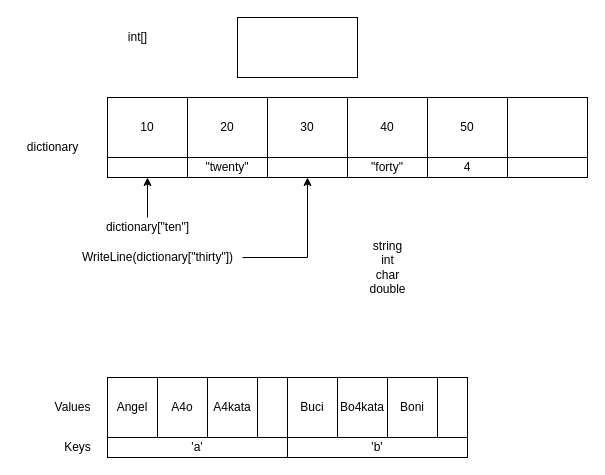
Image size: 605x475. Some labels were removed from this diagram. The centre of each missing label's shape, as x and y in pixels:
"ten": the point at 147,167
"thirhy": the point at 307,167
Dictionary<String,Int>: the point at 297,47
